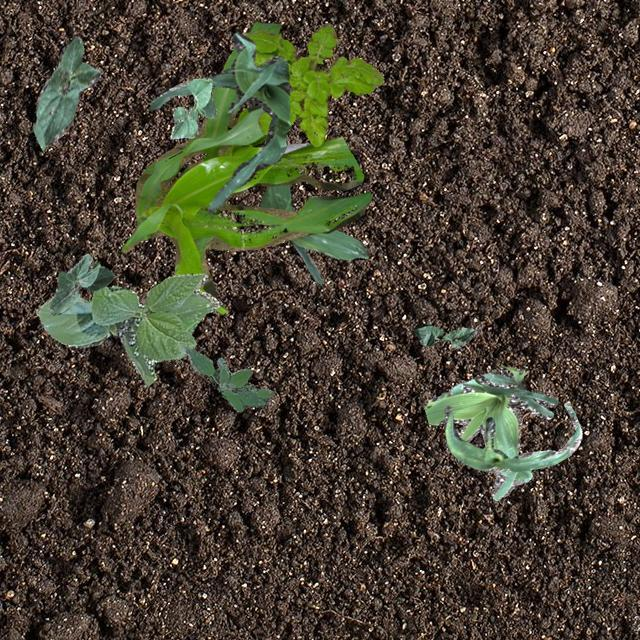crop: (120, 19, 372, 314), (148, 32, 290, 212), (36, 272, 220, 384), (422, 366, 556, 500), (258, 182, 368, 284), (442, 402, 582, 472), (32, 34, 100, 148), (48, 252, 114, 314), (170, 78, 216, 138), (411, 322, 476, 348)
weed: (242, 22, 382, 146), (185, 348, 272, 410)
